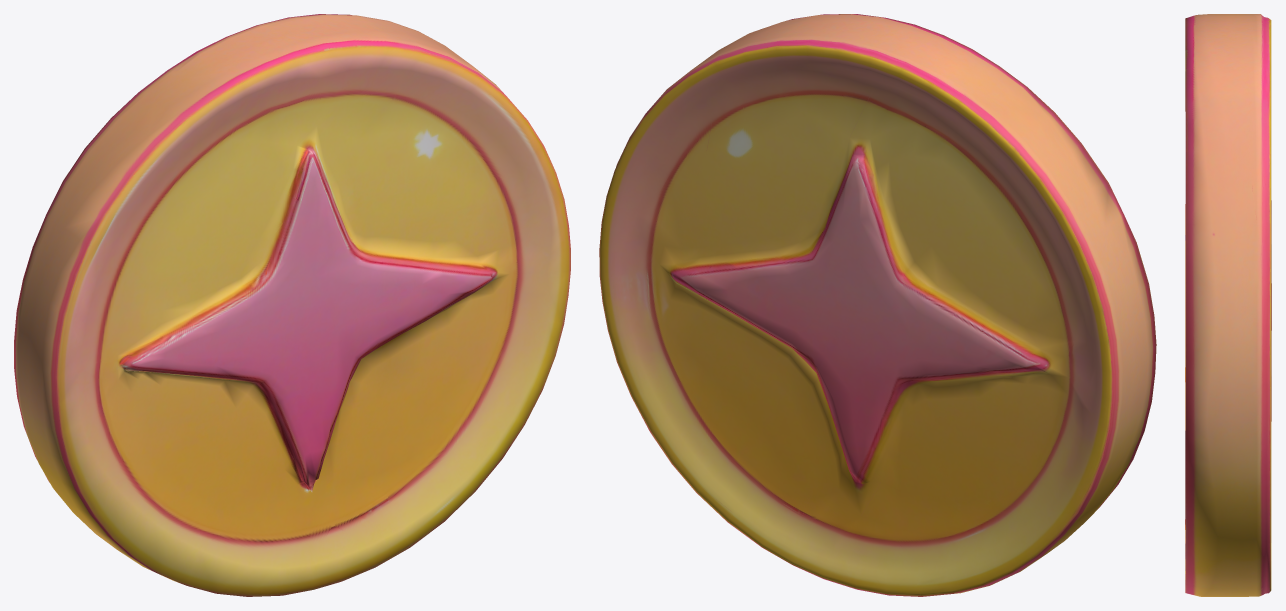
File: Star_Coin_Badge_0324120519_texture.fbx
3 views of the same model, side by side, from view 1: azimuth 30°, elevation 25°; view 2: azimuth 150°, elevation 25°; view 3: azimuth 270°, elevation 25° (orthographic). The views are drawn at different scales.
Parts seen in each view (by area): view 1: input; view 2: input; view 3: input.
Boxes of the visible parts, x1=… form: input: x1=14, y1=14, x2=570, y2=596; input: x1=599, y1=14, x2=1156, y2=596; input: x1=1185, y1=14, x2=1271, y2=596.
Bounding box in the file's own units: 200 × 200 × 29.75.
1 material, 1 textured.
